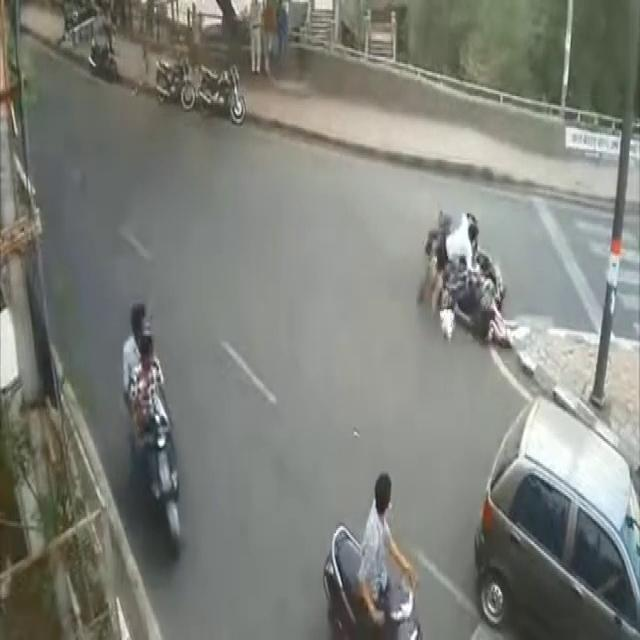accident: (411, 165, 534, 375)
